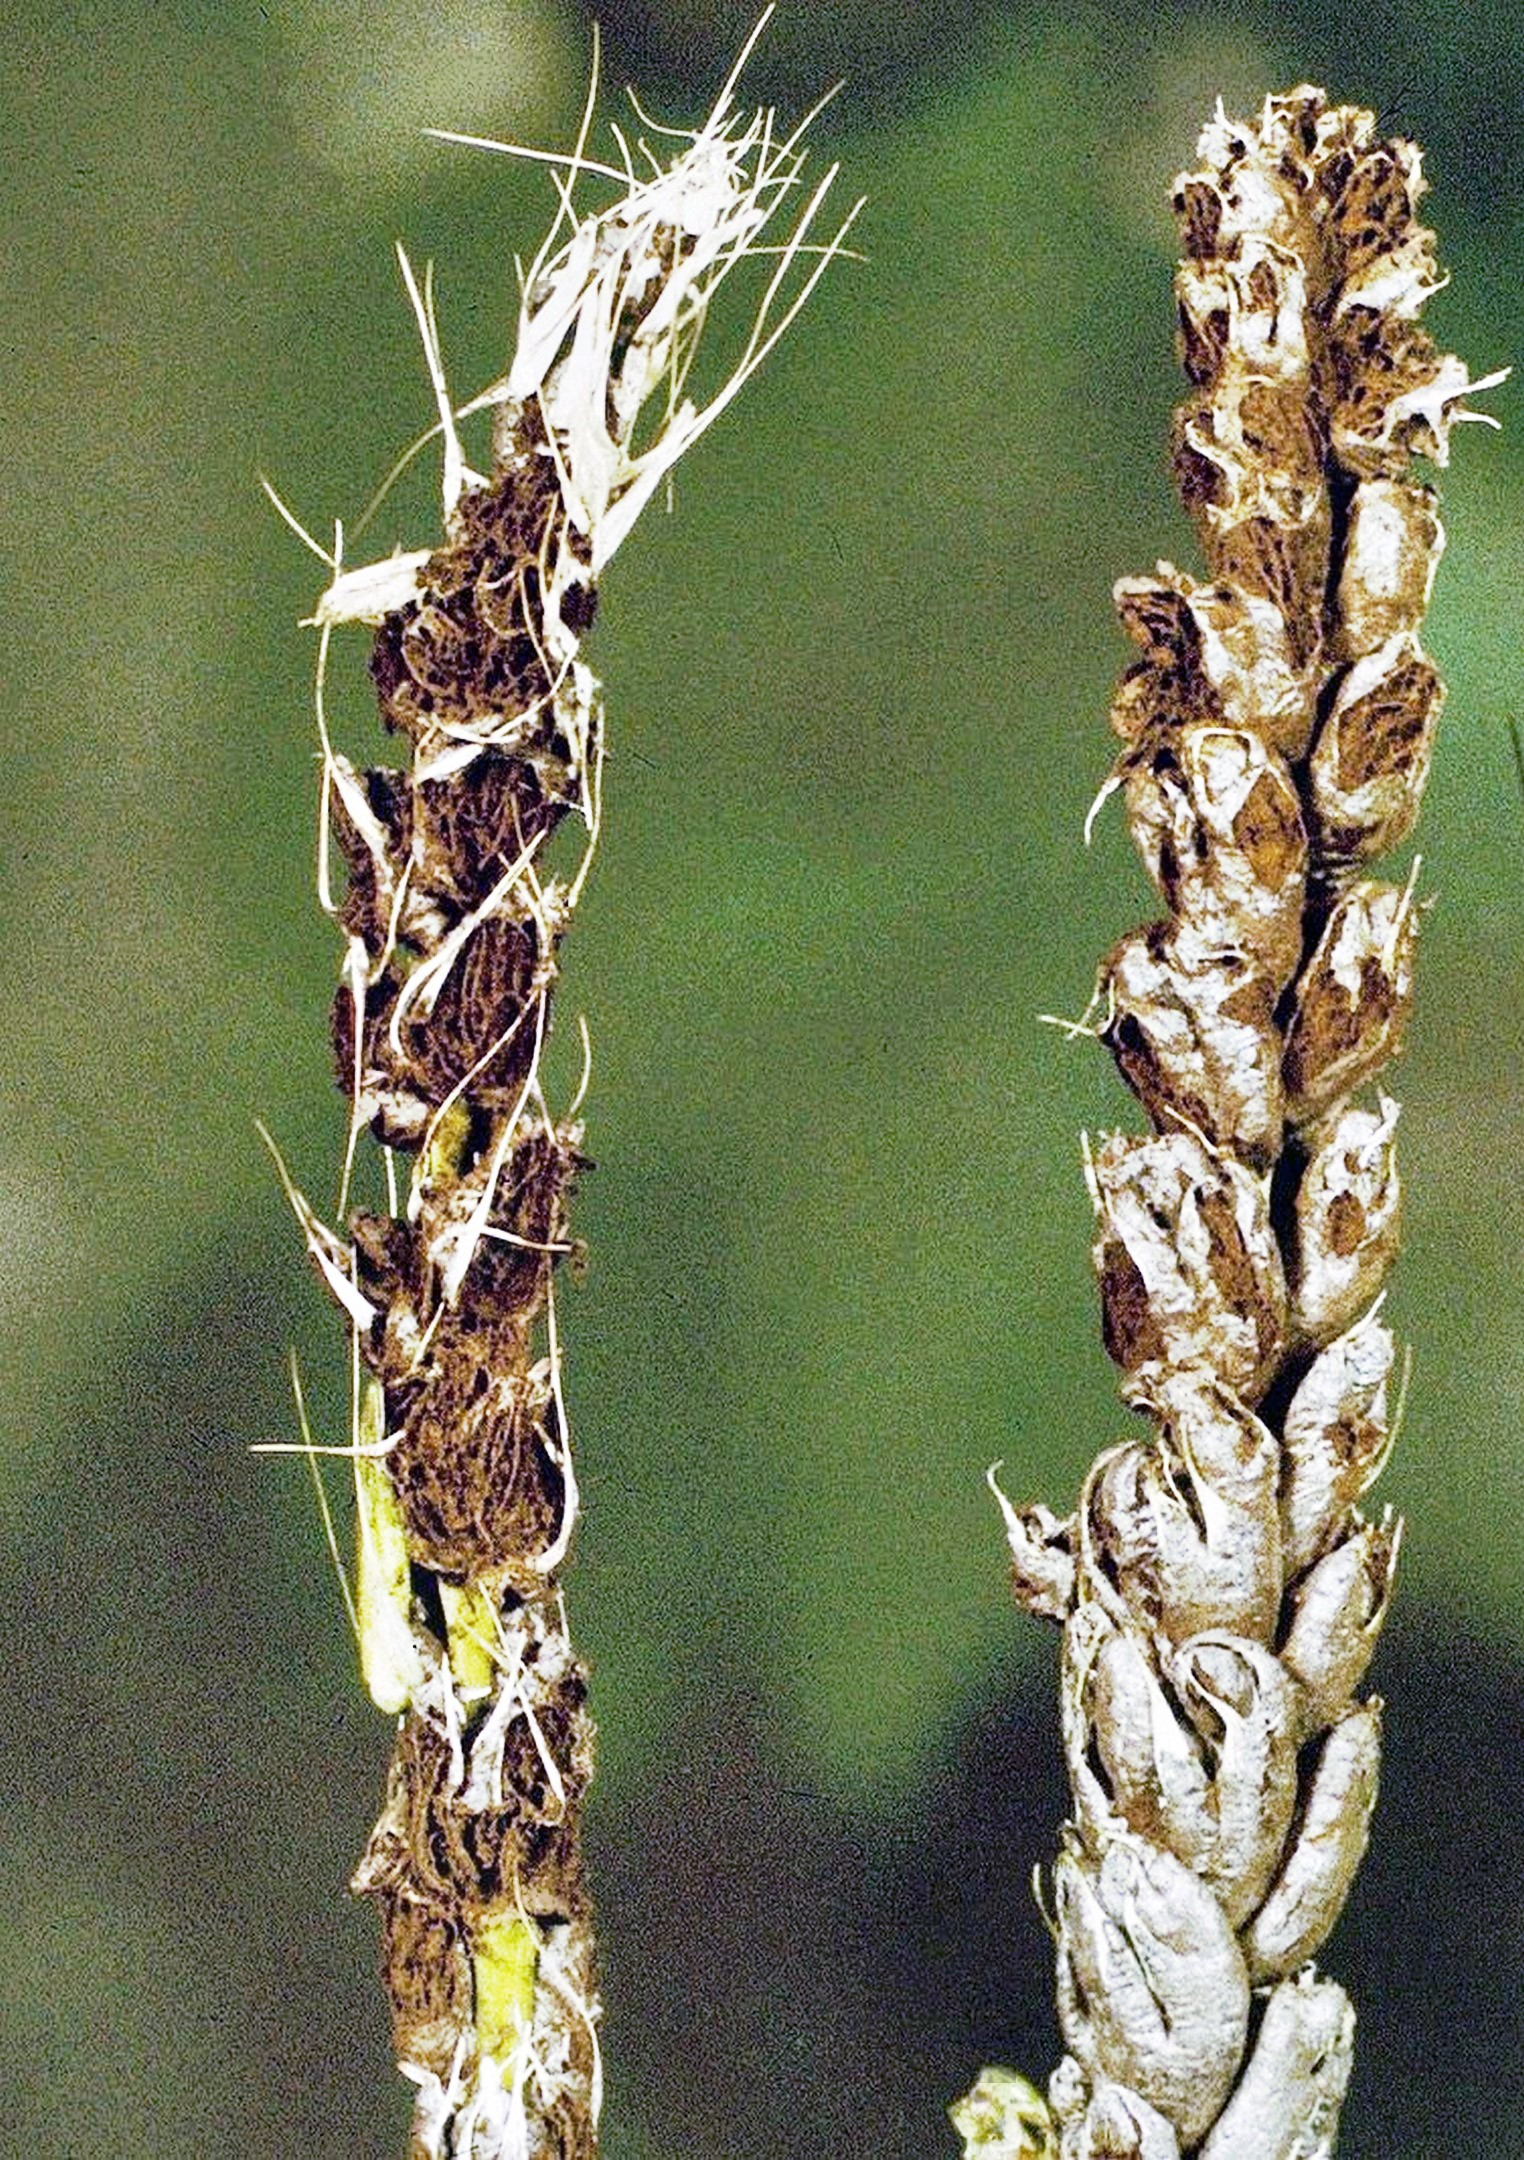Wheat Loose Smut: (1031, 122, 1508, 2021), (280, 119, 709, 2140)
